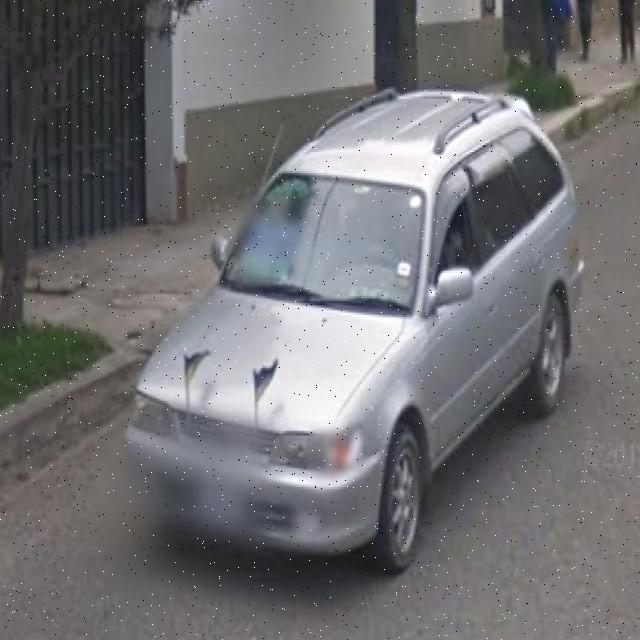car: (115, 80, 583, 572)
